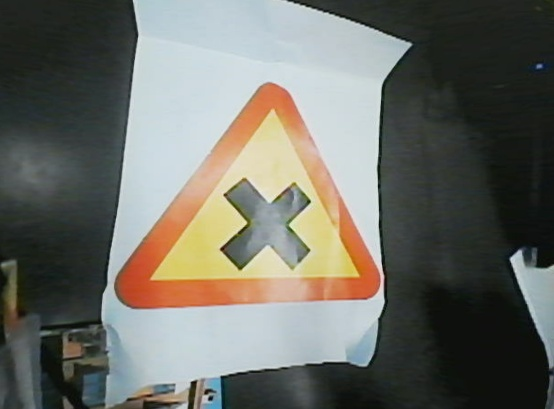junction: (94, 80, 380, 303)
